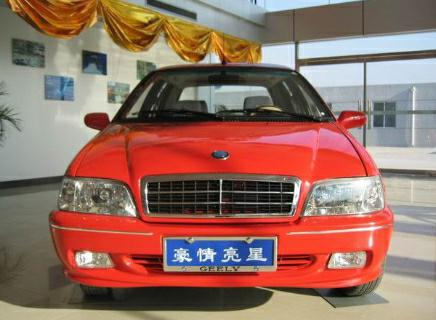吉利汽车-豪情: (49, 60, 397, 300)
